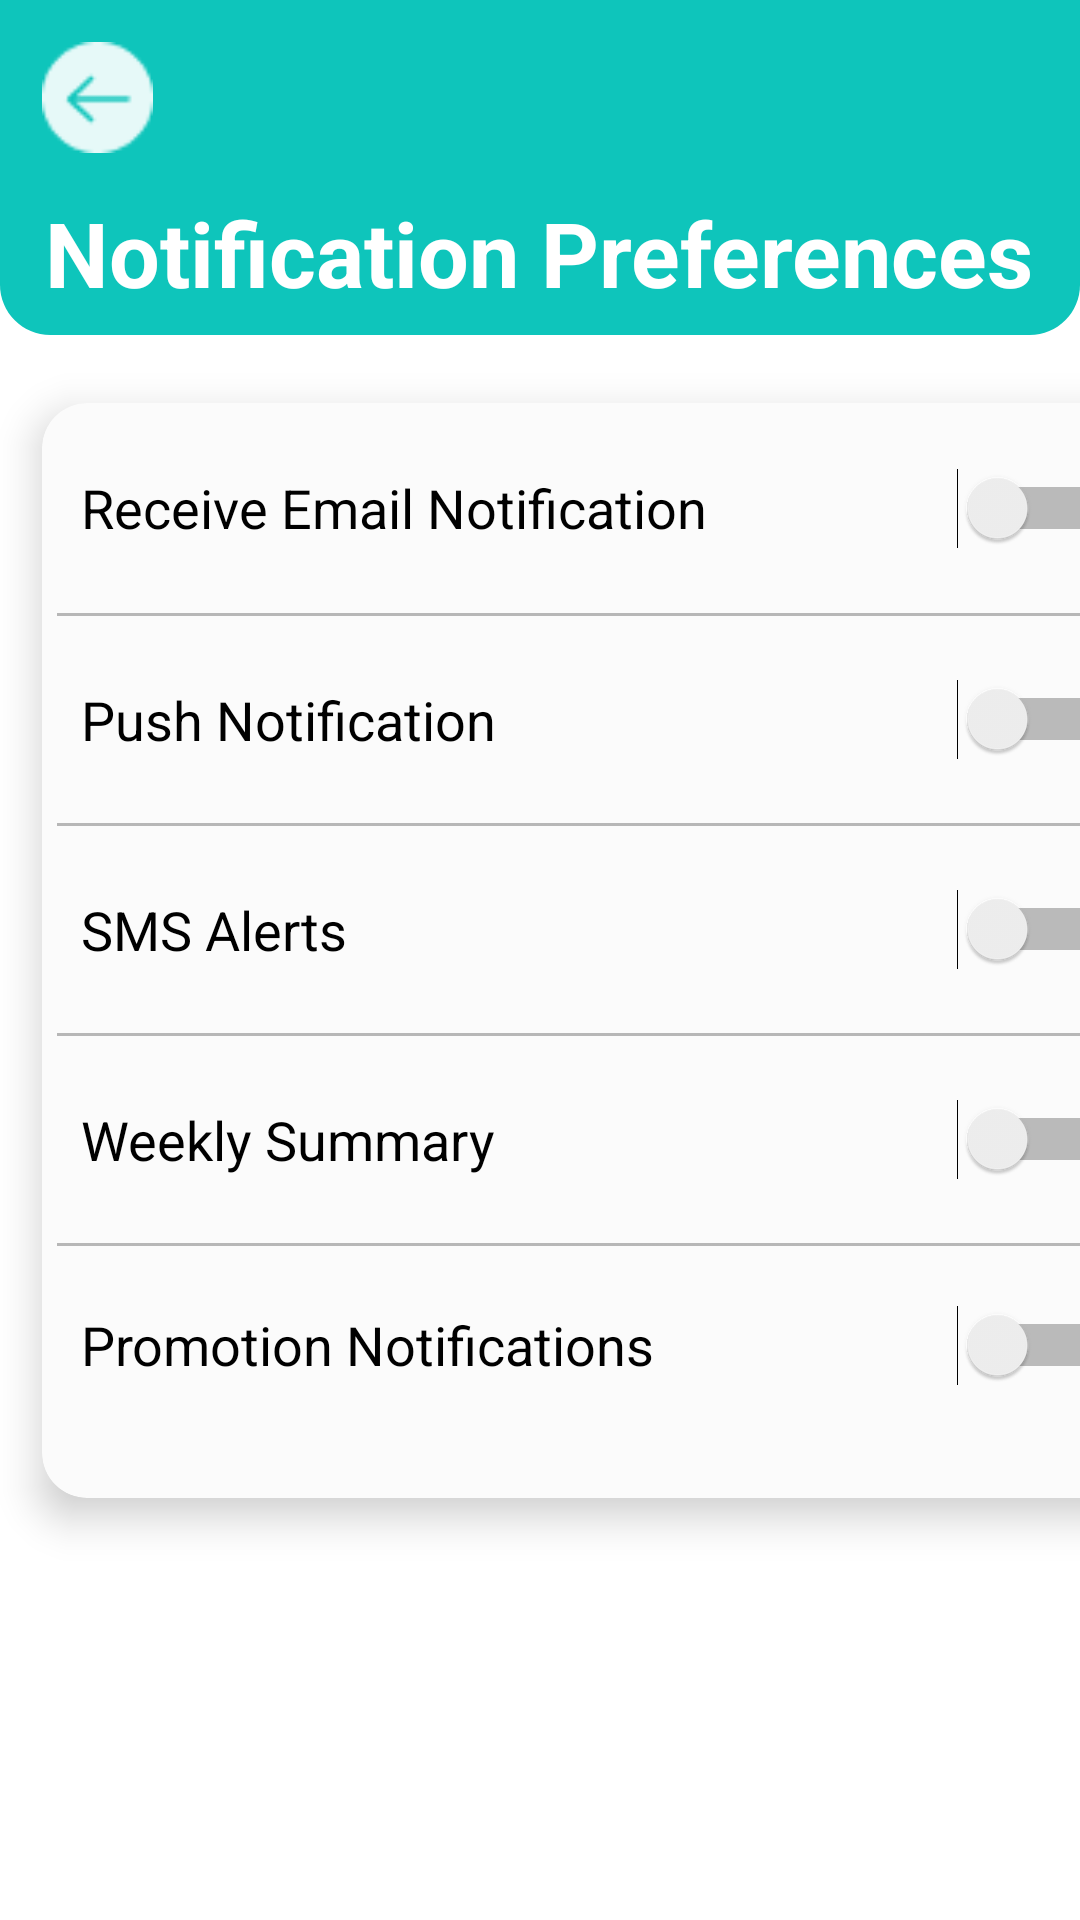

Icons on this 1080w x 1920h Android screen, each with its box as (x1, y1, x2, y2):
bakbtn: (42, 42, 153, 153)
